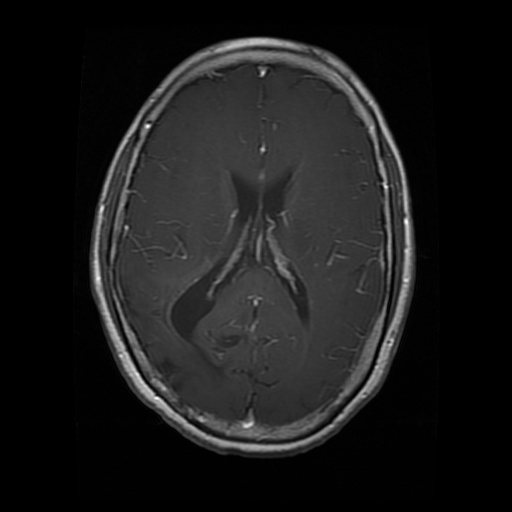glioma: (128, 301, 250, 417)
